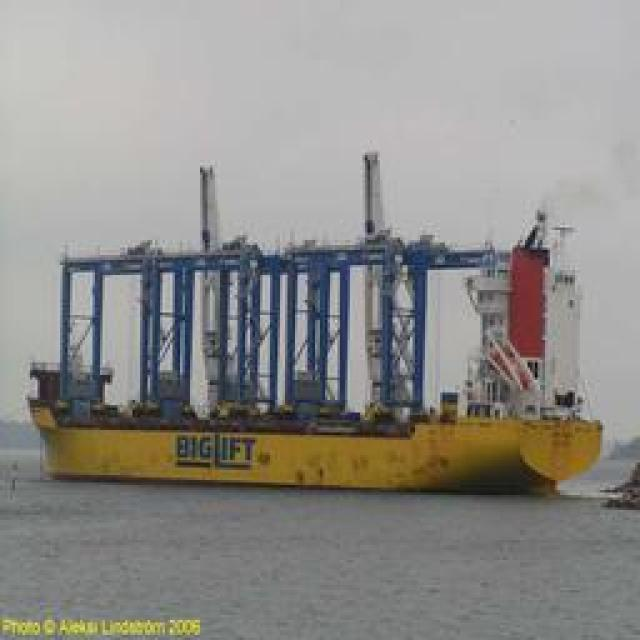CIV_Ship: (19, 146, 616, 499)
